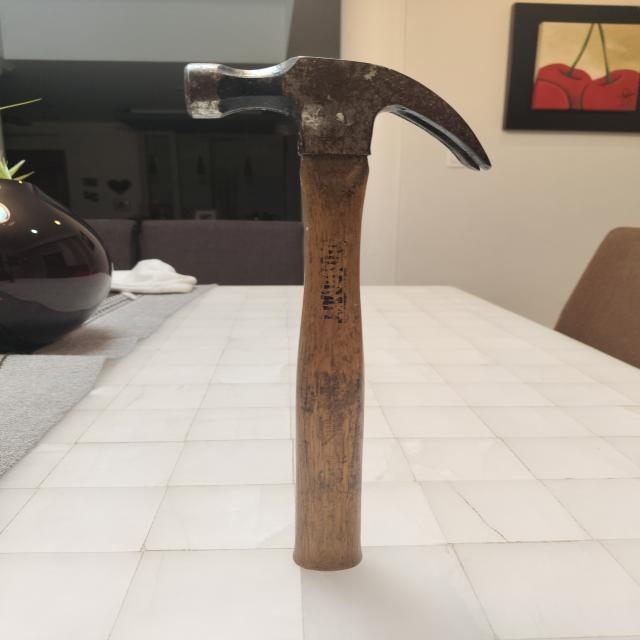Martillo: (146, 22, 542, 605)
